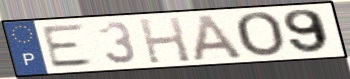3: (95, 19, 138, 66)
9: (283, 7, 334, 56)
A: (191, 13, 247, 63)
E: (39, 22, 97, 70)
H: (136, 16, 194, 66)
O: (232, 10, 288, 59)
